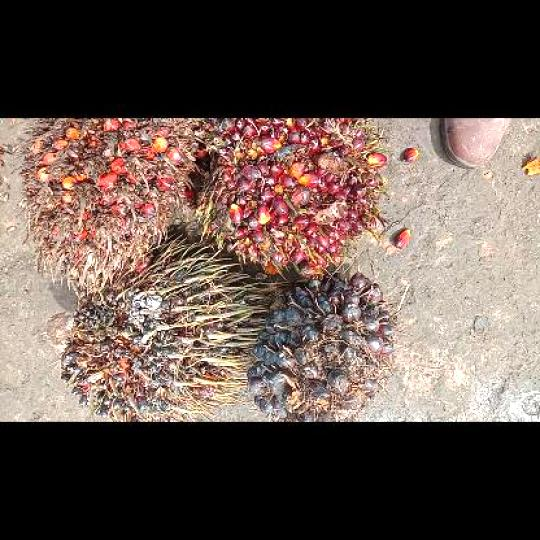masak: (196, 118, 386, 274)
terlalu masak: (19, 118, 204, 295)
